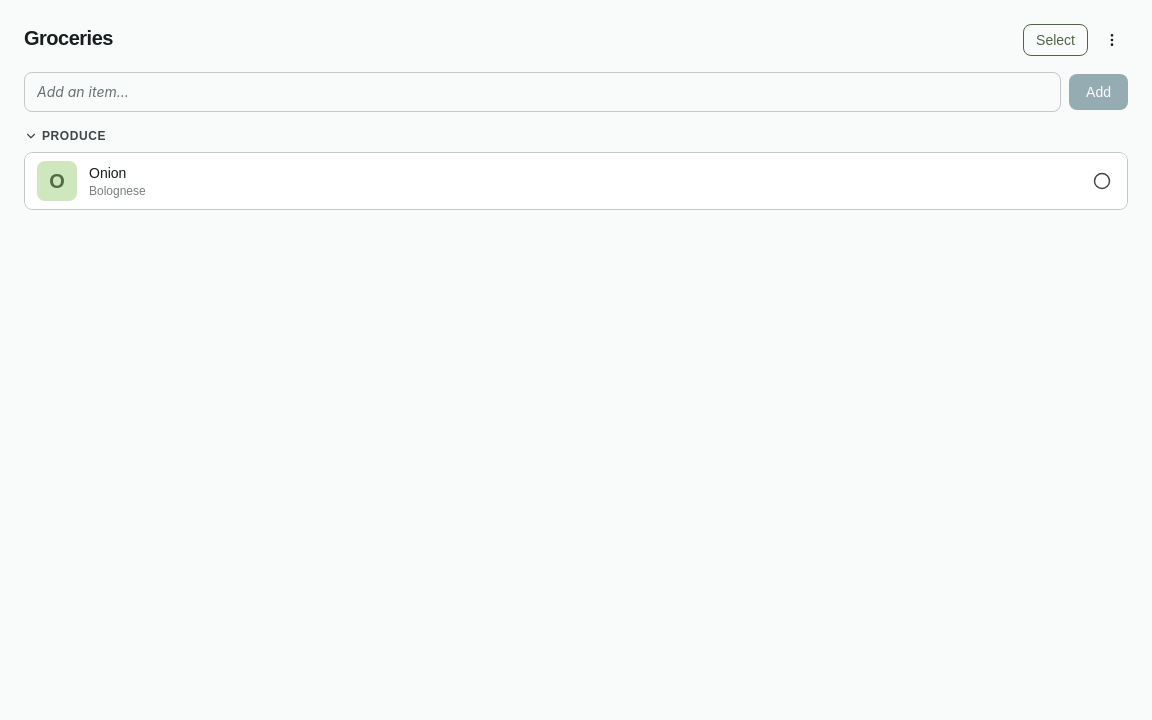
Test case: ShoppingListPage — the edit sheet's Sources block › renders the name as plain text once the recipe is gone
The width and height of the screenshot is (1152, 720).
Click the button with test id "shopping-item-edit-btn": coordinates (108, 173) top-left (89, 163), bottom-right (1077, 199)
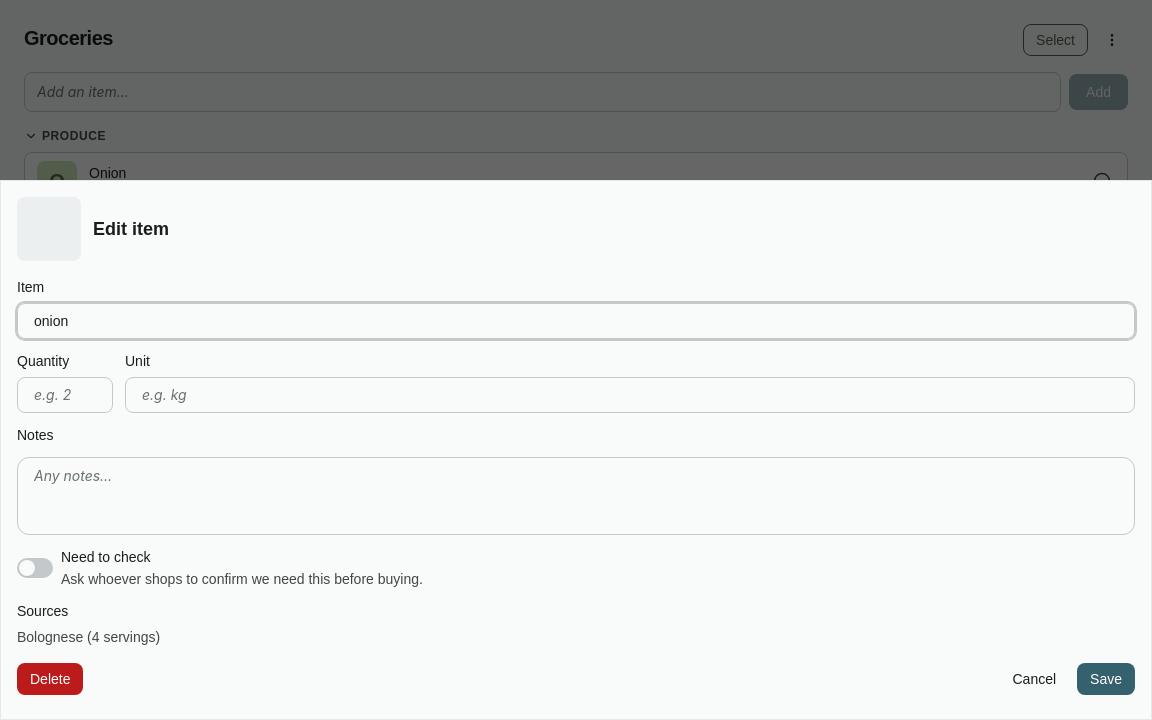
Check: the element with test id "shopping-edit-sources" shows "Bolognese (4 servings)", box top-left (17, 629), bottom-right (160, 645)
